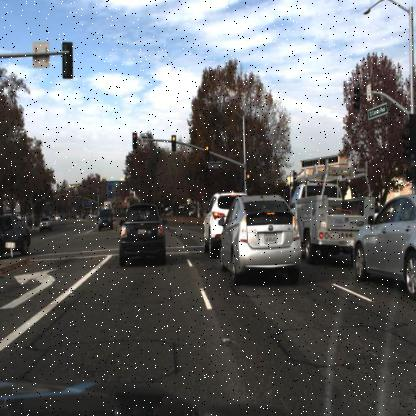car: (290, 162, 377, 263), (220, 190, 302, 283), (349, 193, 415, 303), (290, 181, 378, 263), (118, 200, 166, 268), (118, 202, 166, 264), (201, 192, 230, 260), (203, 191, 232, 255), (0, 212, 33, 258), (96, 206, 113, 232), (97, 210, 113, 230), (40, 213, 54, 235), (38, 215, 51, 233)
trafficLight: (245, 168, 252, 186)
trafficLight-Red: (244, 169, 253, 193), (174, 132, 182, 154), (170, 132, 177, 156), (204, 142, 211, 164), (205, 142, 210, 162)
trafficLight-RedLeft: (131, 130, 140, 151), (132, 131, 140, 151)
